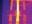Hotspot: (16, 0, 19, 23)
